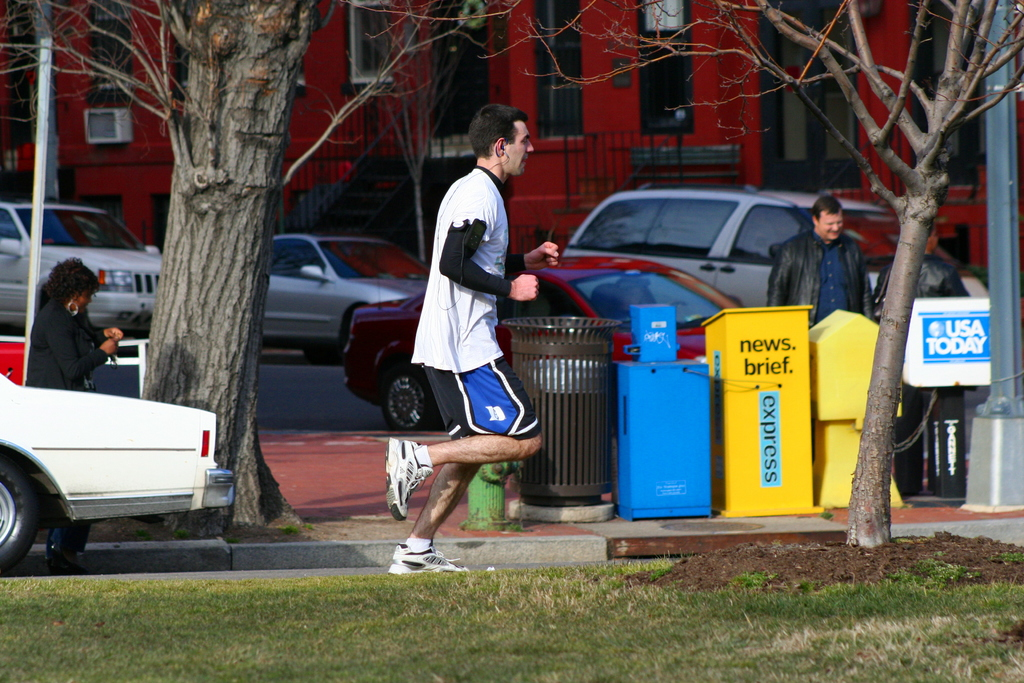Car: (557, 180, 990, 408), (337, 255, 744, 429), (0, 368, 234, 562), (259, 230, 430, 366), (0, 194, 160, 333)
